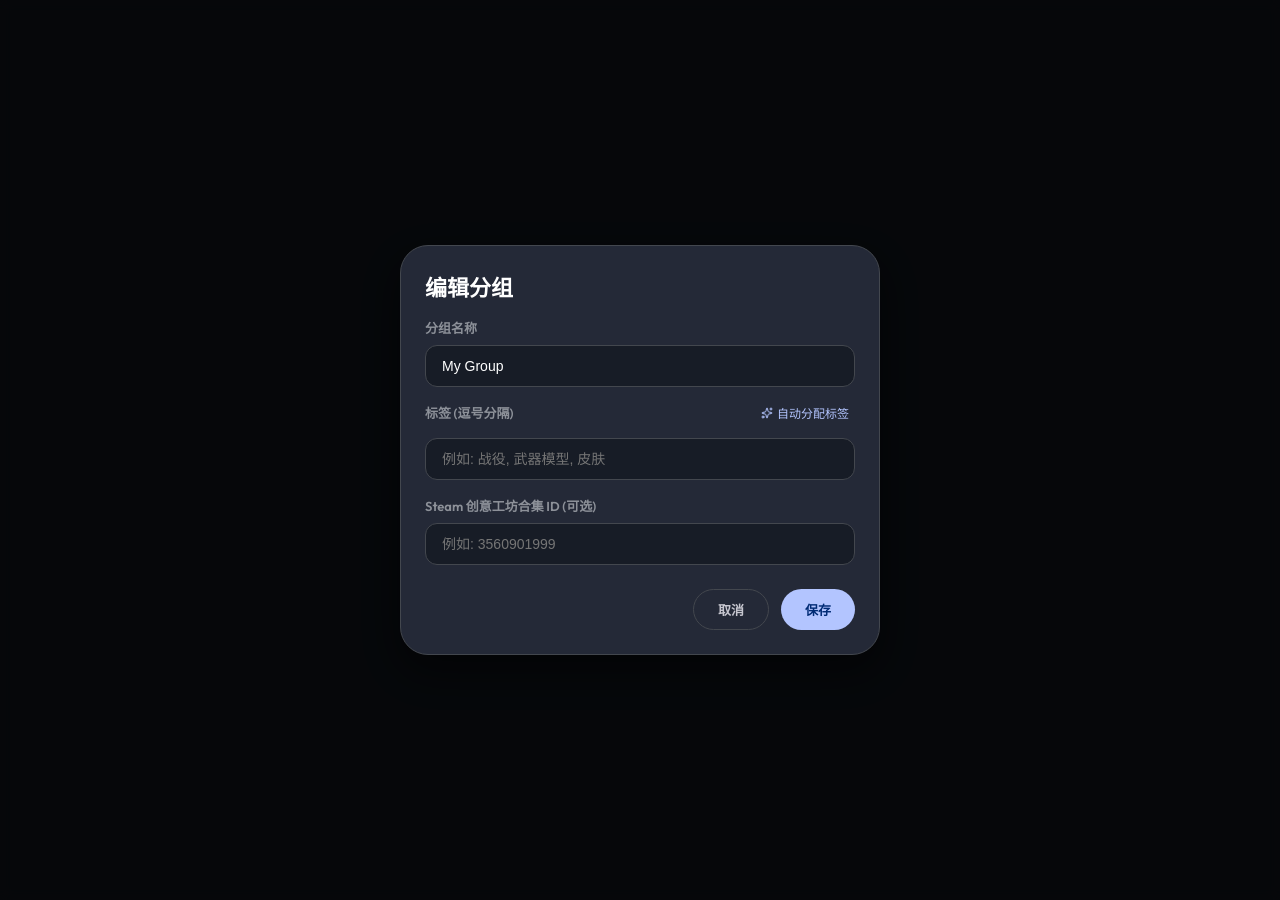
EditGroupModal › auto allocates tags correctly
Click the button "自动分配标签".
click(805, 412)  # box [755, 403, 855, 422]
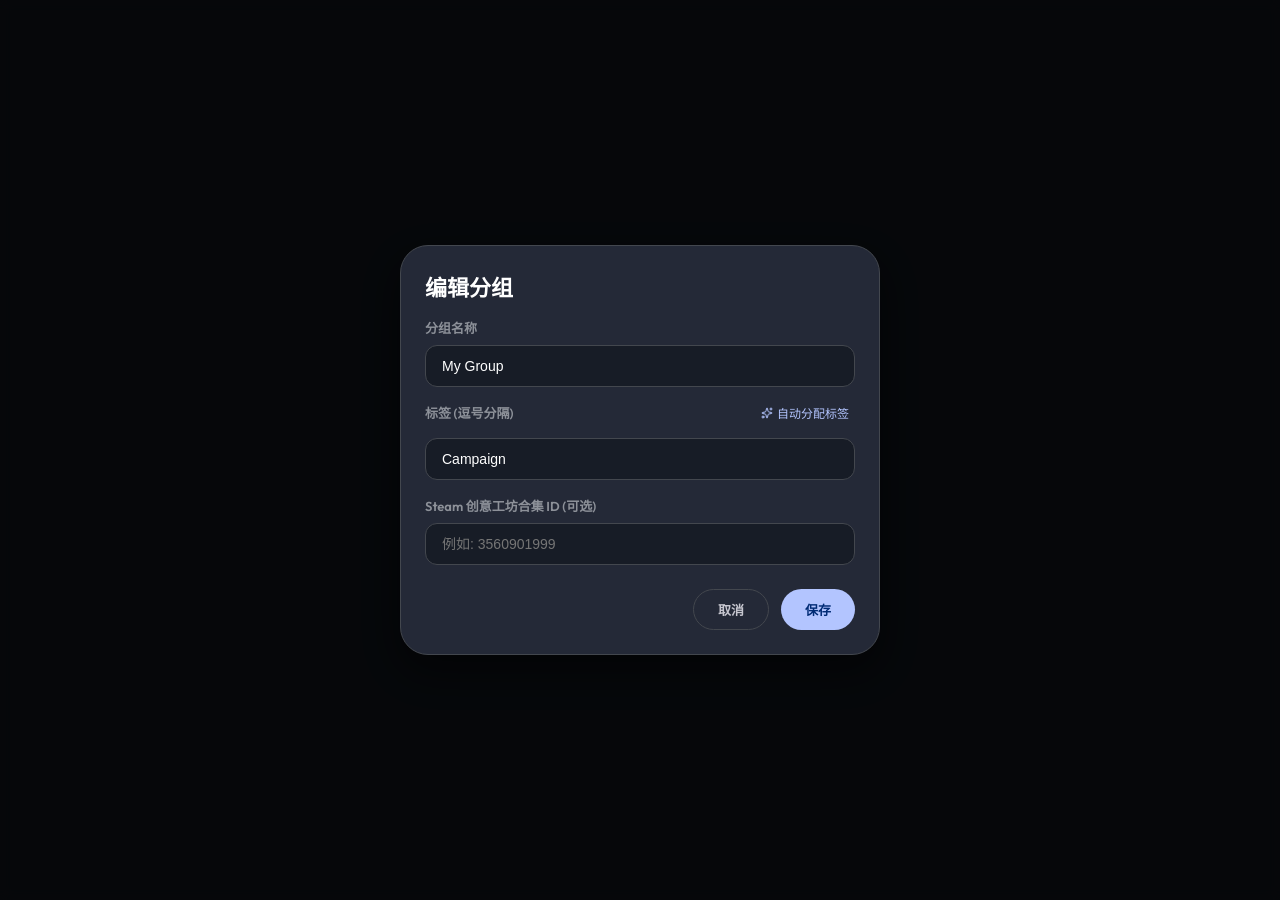
Now the field with placeholder "例如: 战役, 武器模型, 皮肤" below "标签 (逗号分隔)" holds "Campaign", box [425, 438, 855, 480]
